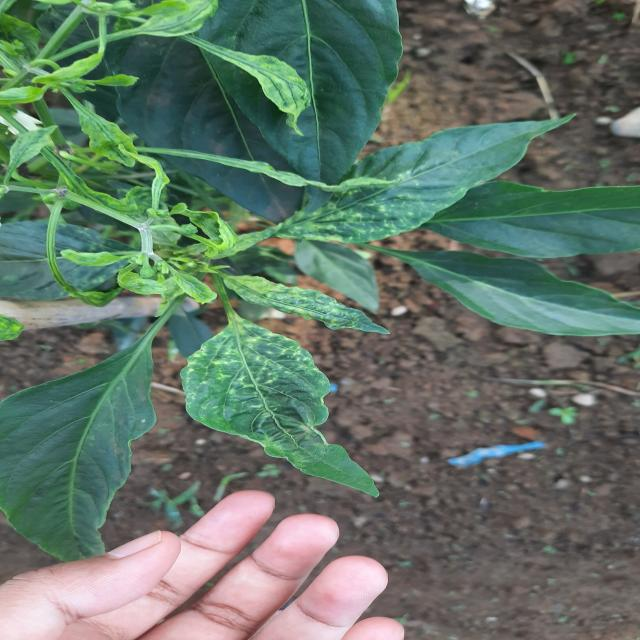thrips: (178, 318, 382, 500), (226, 272, 398, 339)
